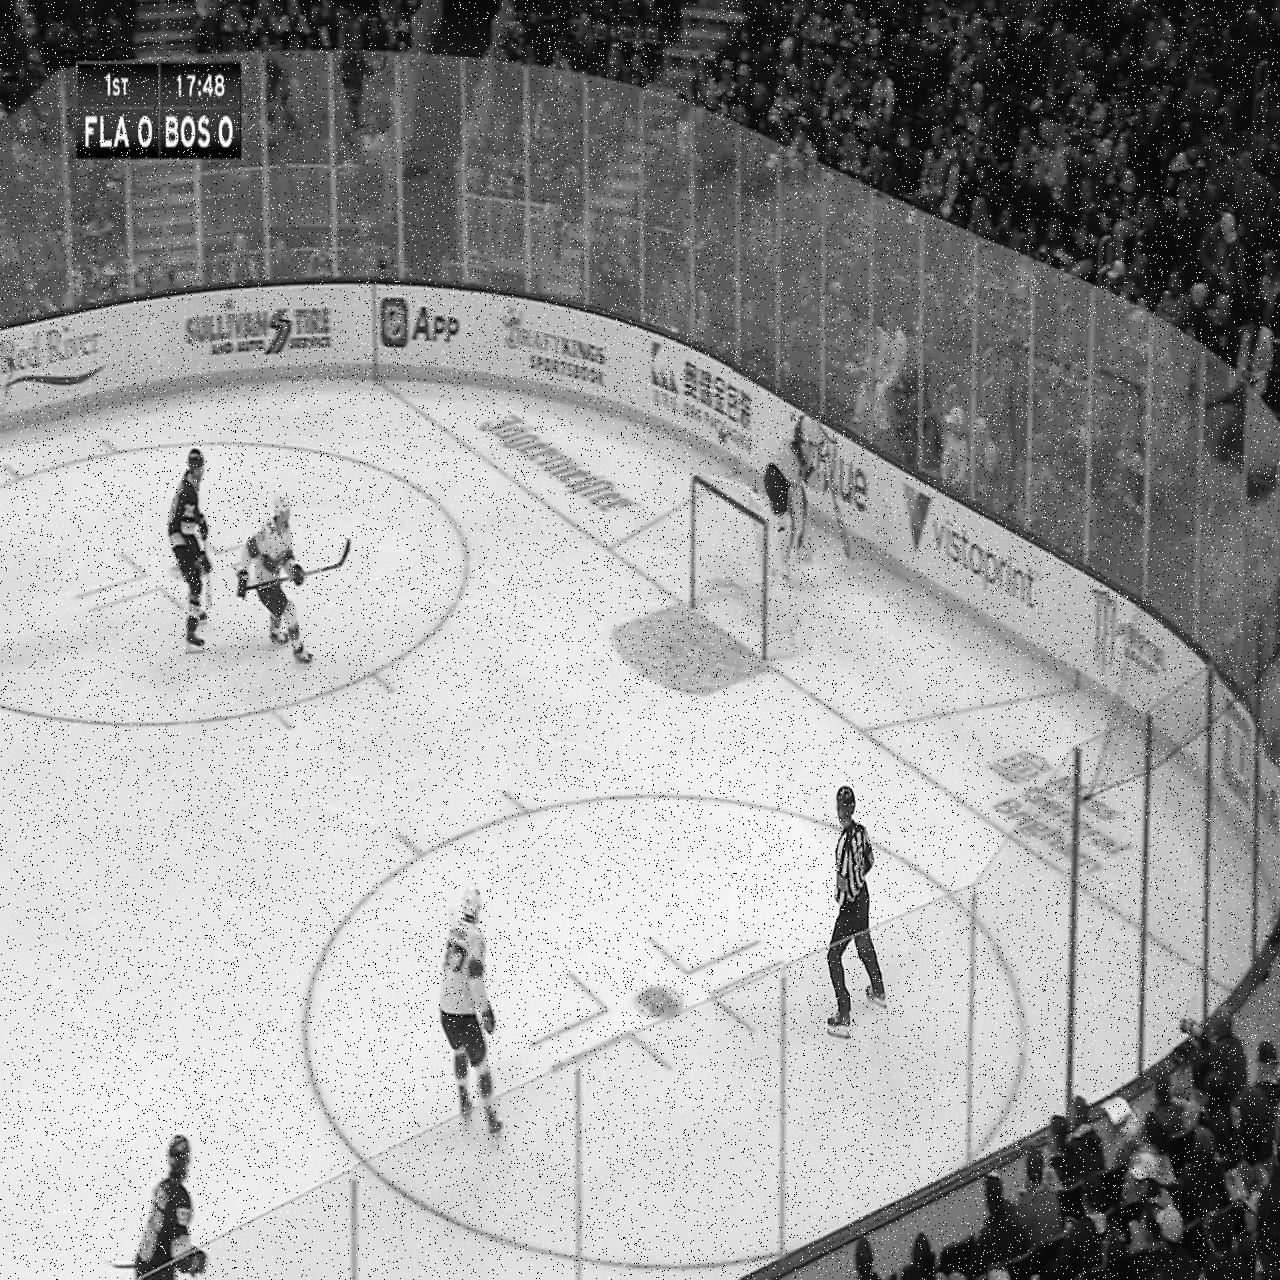Ad: (985, 742, 1130, 896), (905, 476, 1041, 613), (478, 410, 632, 520), (182, 286, 338, 368), (647, 336, 758, 447), (498, 301, 610, 390), (1088, 576, 1167, 692), (0, 322, 120, 394), (375, 290, 463, 358)
